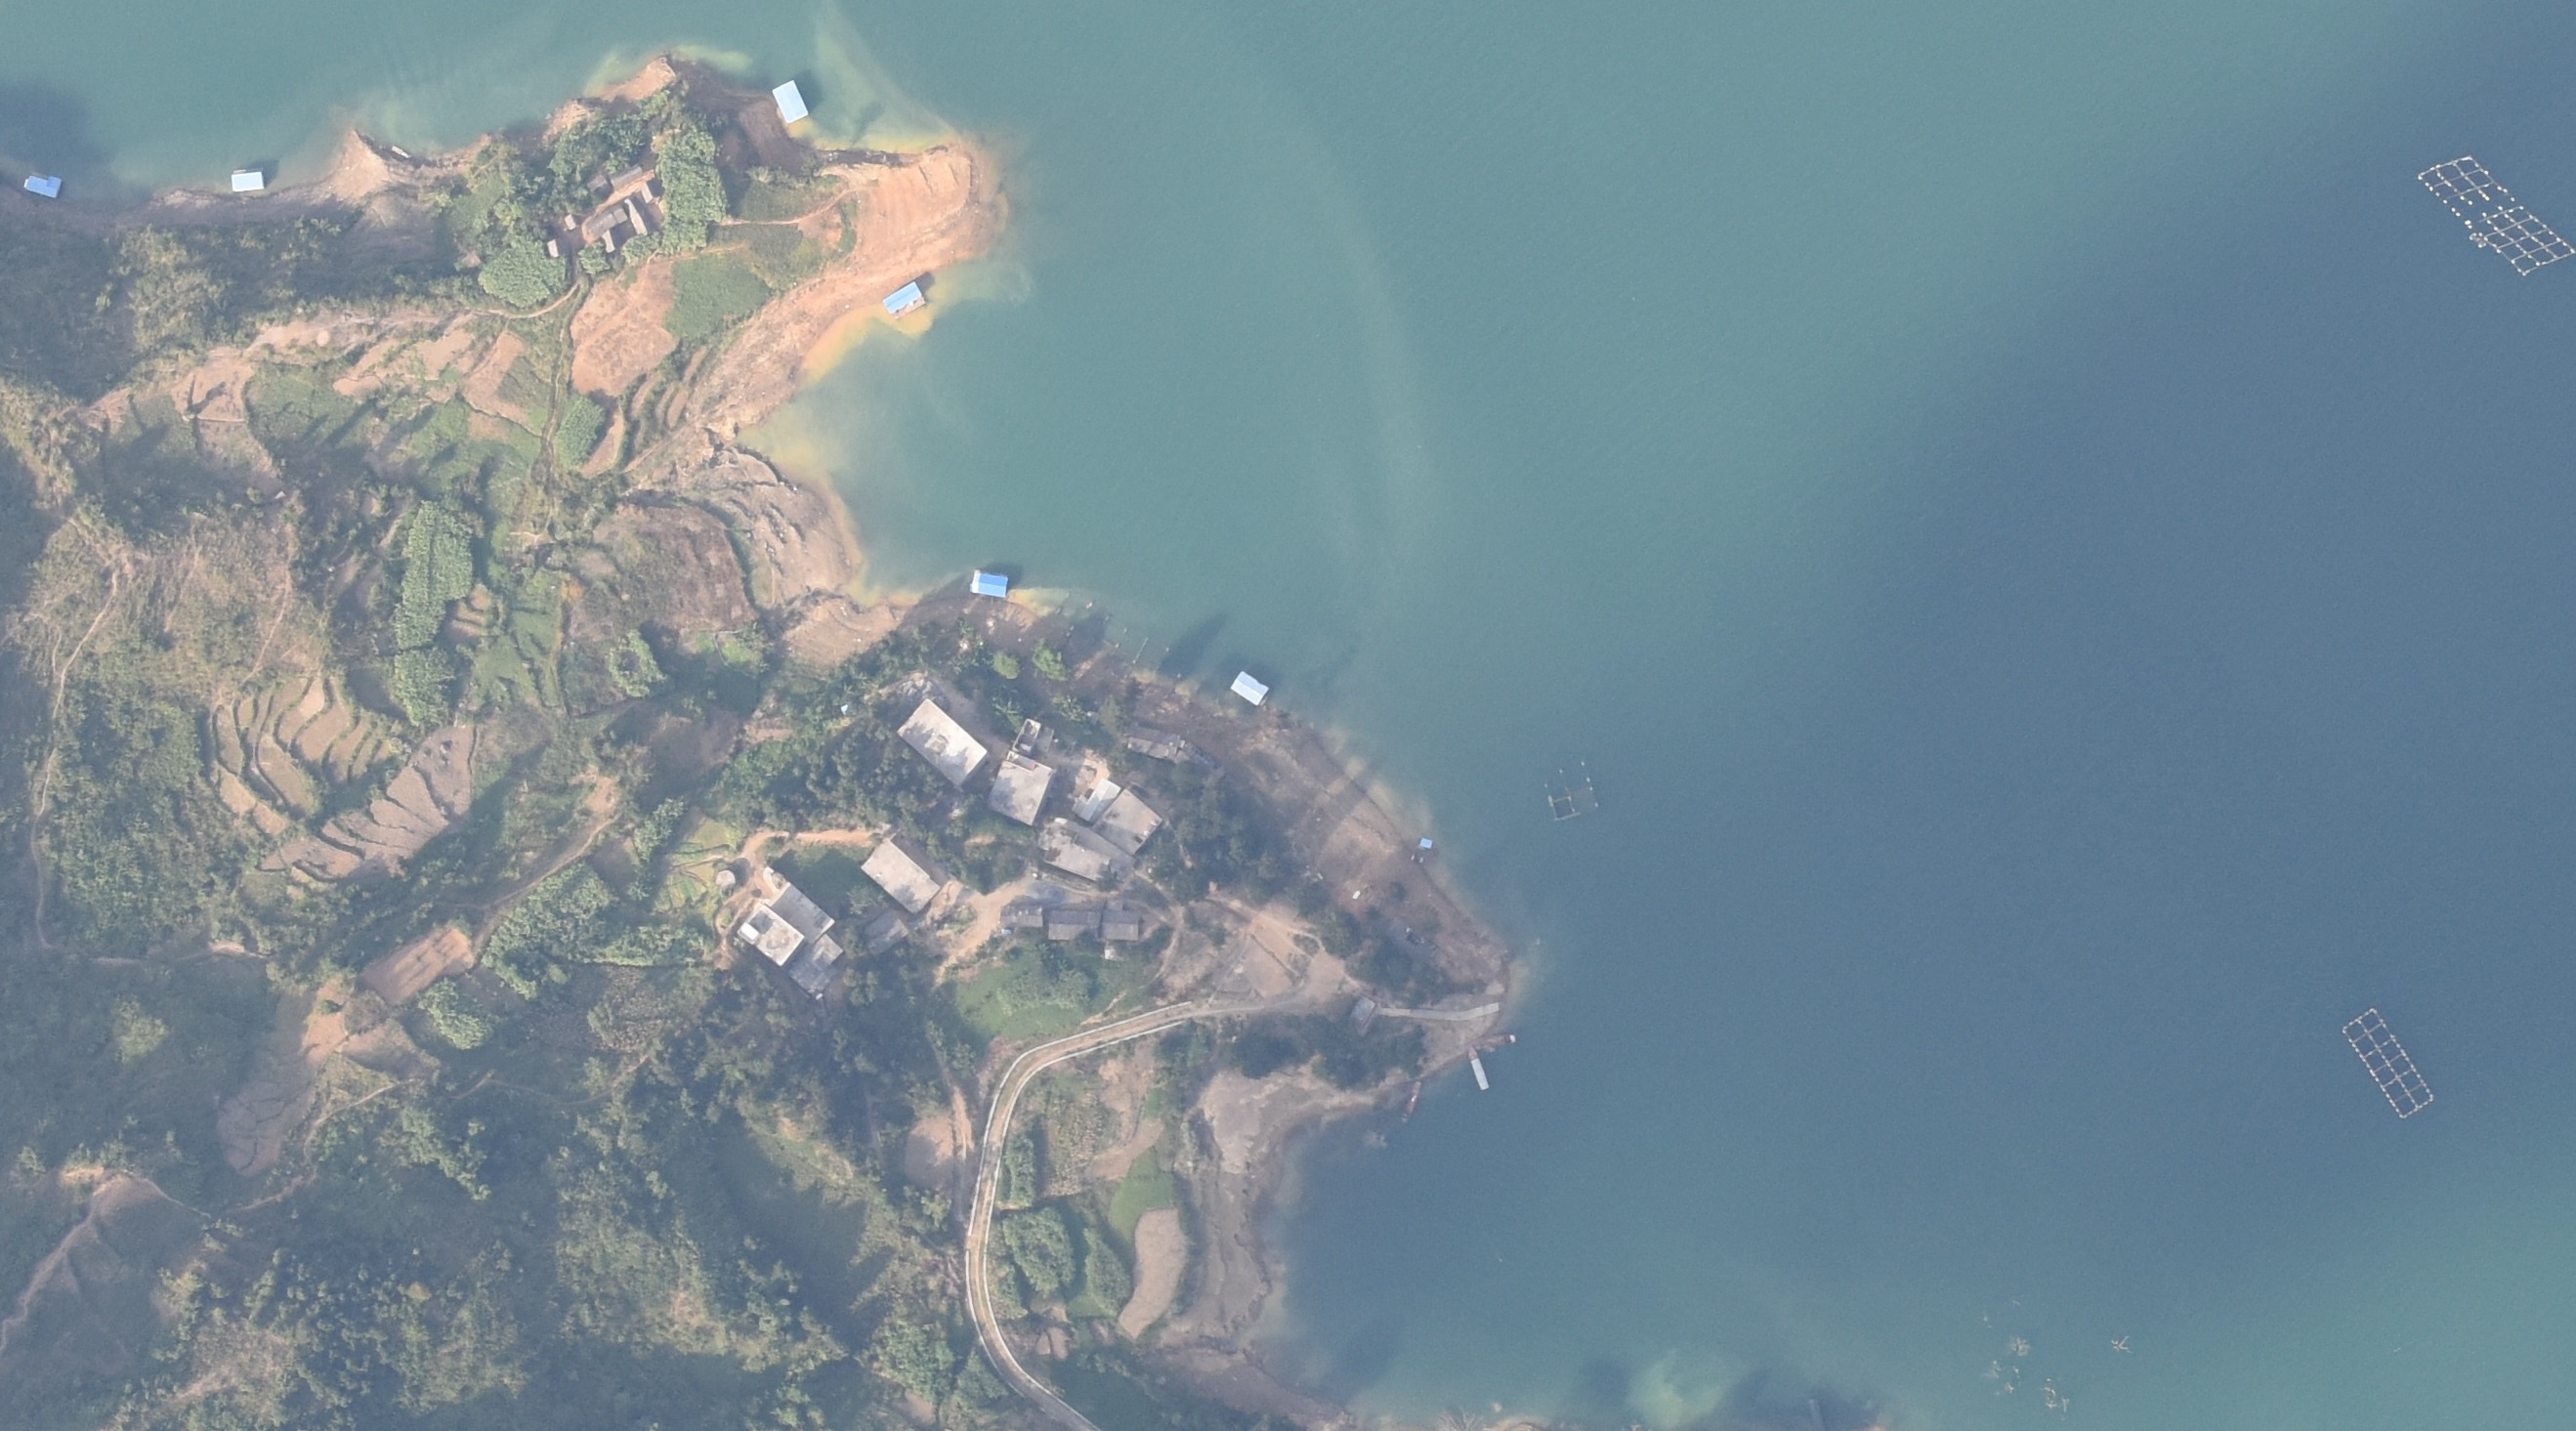building: (739, 886, 845, 999), (899, 699, 986, 785), (1039, 818, 1134, 886), (1072, 781, 1158, 853), (862, 837, 939, 909), (1001, 905, 1139, 945), (984, 750, 1051, 827), (1130, 722, 1218, 780), (589, 198, 651, 251), (861, 911, 907, 958), (580, 162, 645, 190), (1345, 995, 1375, 1030), (545, 239, 569, 261), (556, 210, 577, 231), (639, 183, 657, 202)
cultivation-mesh-cage: (2419, 151, 2576, 278), (2344, 1005, 2442, 1116), (1543, 756, 1601, 819)
prefabricated-house: (882, 281, 927, 317), (772, 79, 806, 124), (1231, 670, 1271, 704), (24, 166, 63, 197), (968, 570, 1009, 597), (232, 167, 267, 194), (1416, 838, 1431, 849)
ship: (1467, 1046, 1489, 1090), (1401, 1081, 1420, 1127)
well: (713, 869, 738, 893)
